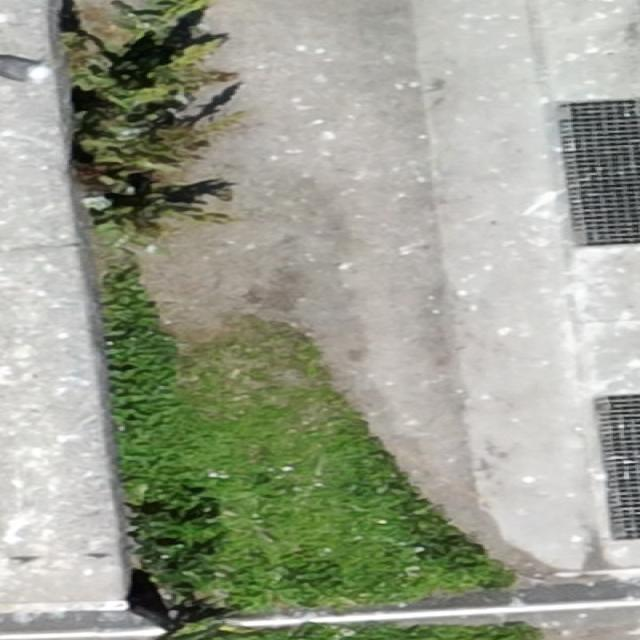umineko: (0, 58, 42, 80)
